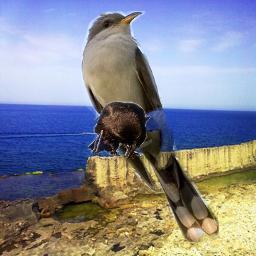Crow: (87, 101, 152, 159)
Cuckoo: (81, 11, 219, 242)
